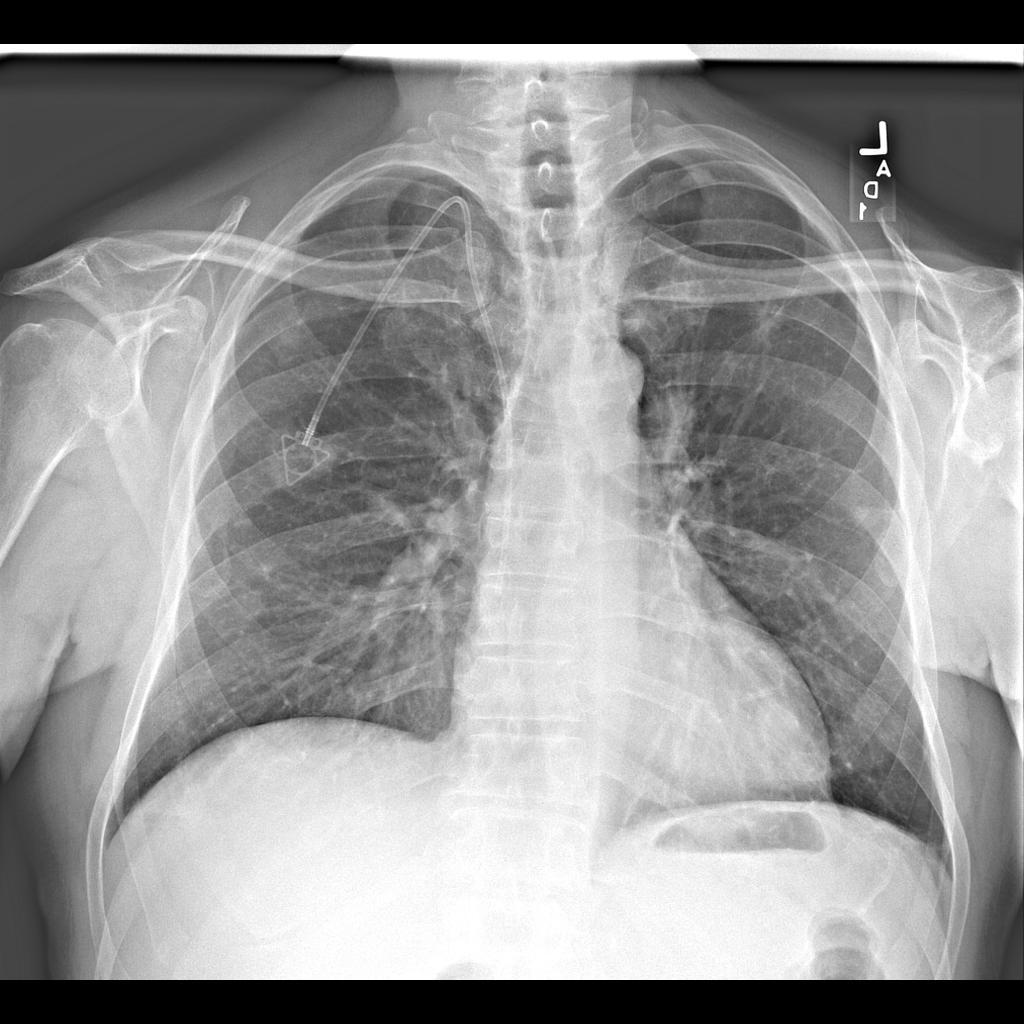Nodule: (739, 687, 813, 755), (846, 497, 890, 540)
